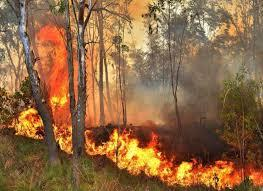fire: (83, 124, 263, 190), (12, 25, 77, 155)
